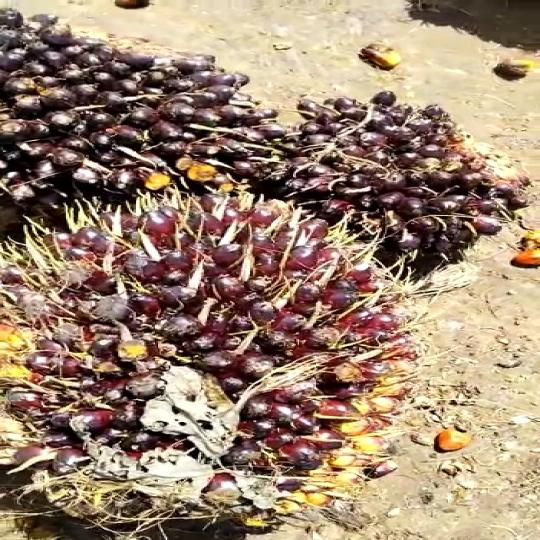mentah: (0, 179, 421, 540), (0, 0, 277, 212), (271, 81, 508, 285)
